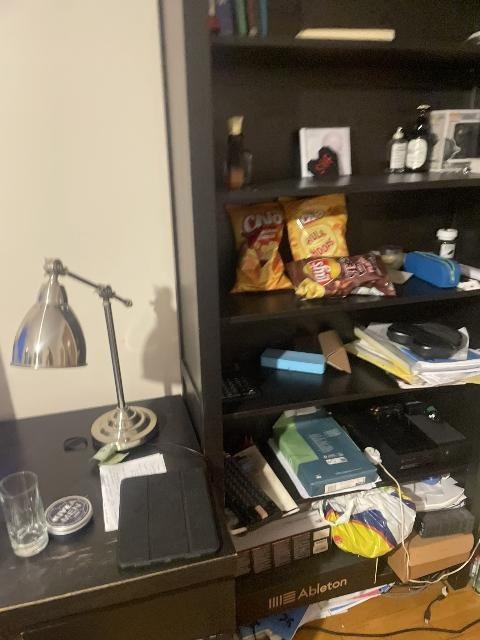Chio Cascaval 125g: (224, 200, 292, 295)
Chio Hula Hoops Cheese 70g: (283, 194, 349, 264)
Lays Beef Grilled Ribs 125g: (283, 251, 394, 298)
